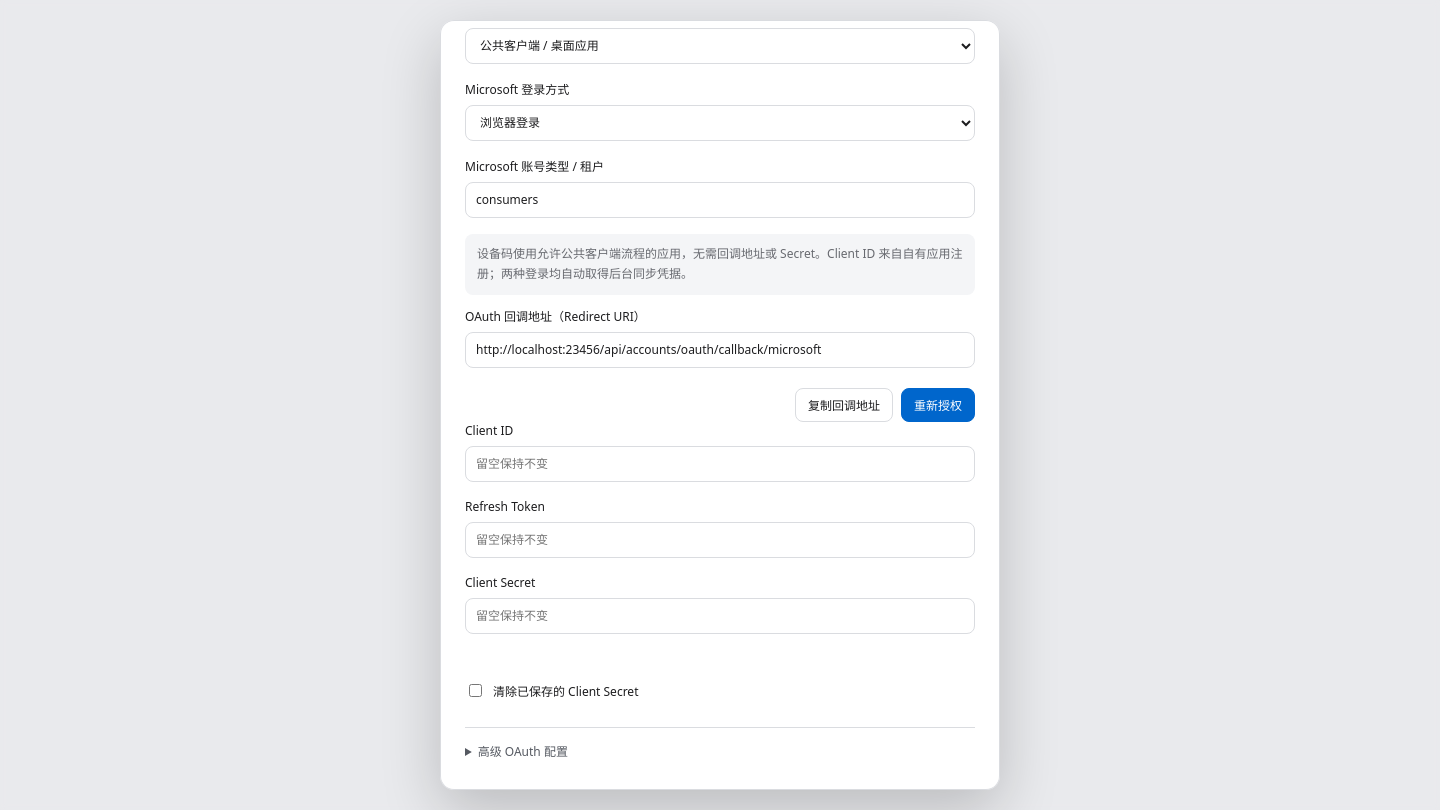
A20: overlapping OAuth status polls are suppressed while a check is in flight
(page scrolled)
Click the button "重新授权". click: (938, 405)
box: [901,388,975,422]
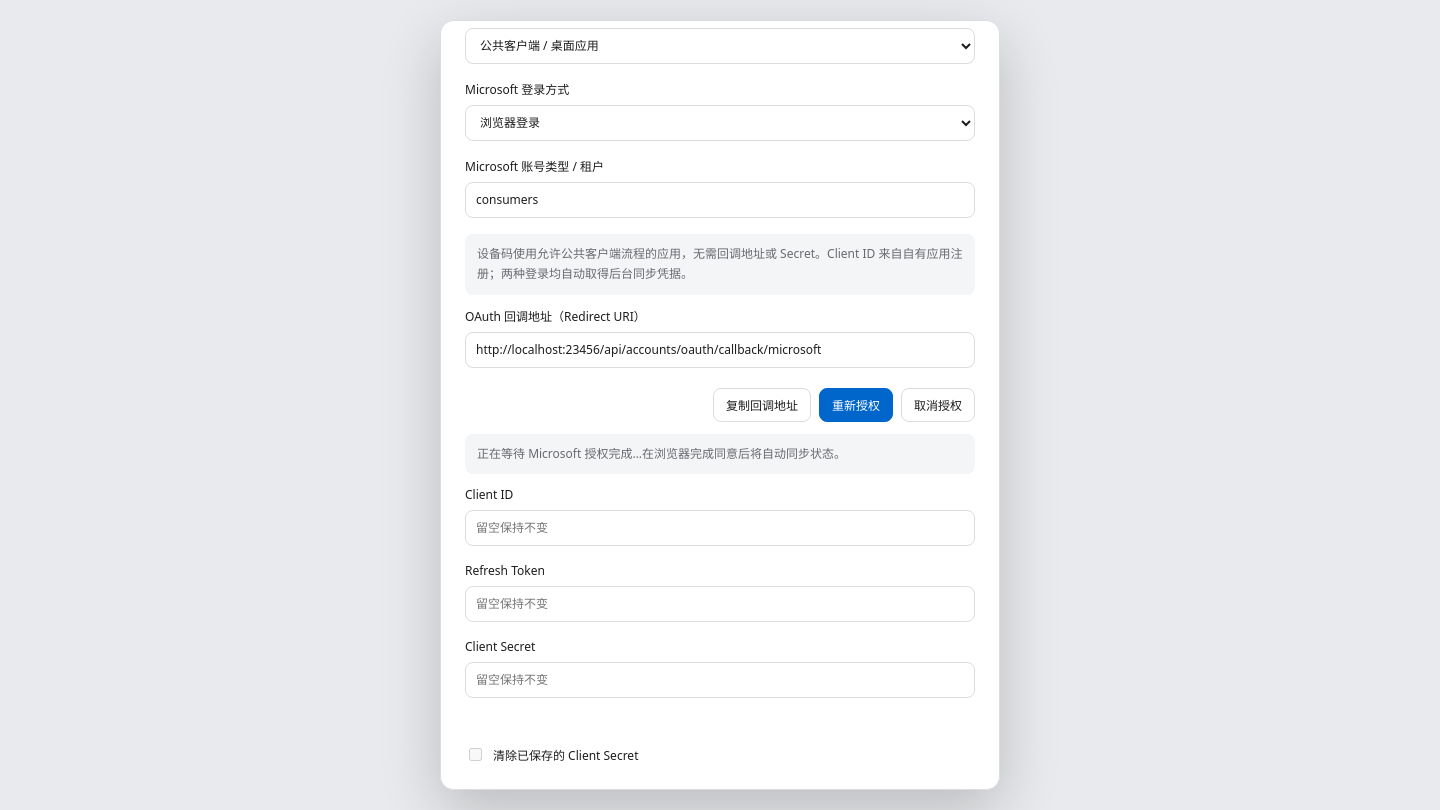
Expected: the text "正在等待 Microsoft 授权完成" is shown, [465,434,975,474]
